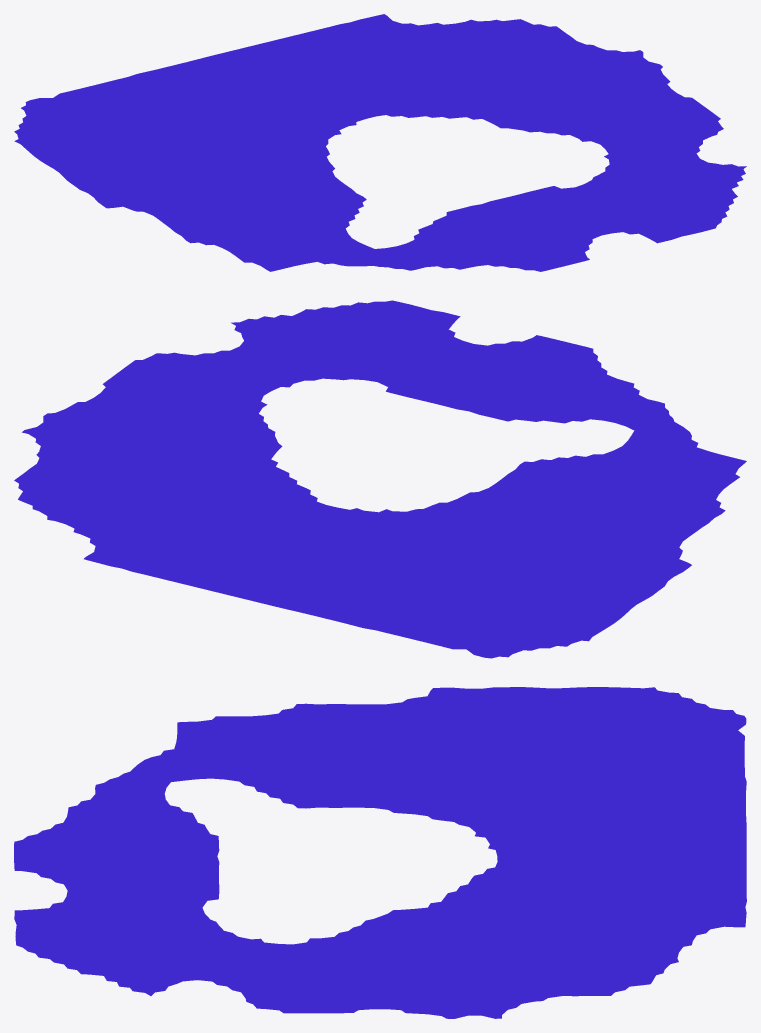
File: water_hell_awaits.glb
3 renders of one model, top to bottom at view 1: azimuth 30°, elevation 25°; view 2: azimuth 150°, elevation 25°; view 3: azimuth 270°, elevation 25°, orthographic. The views are drawn at different scales.
Visible parts, largest first — view 1: water; view 2: water; view 3: water.
Part boxes in pixels (left/top/right/bottom): water: left=14, top=14, right=746, bottom=271; water: left=14, top=300, right=746, bottom=658; water: left=14, top=687, right=746, bottom=1018.
Bounding box in the file's own units: 1309 × 1.57 × 1220.
